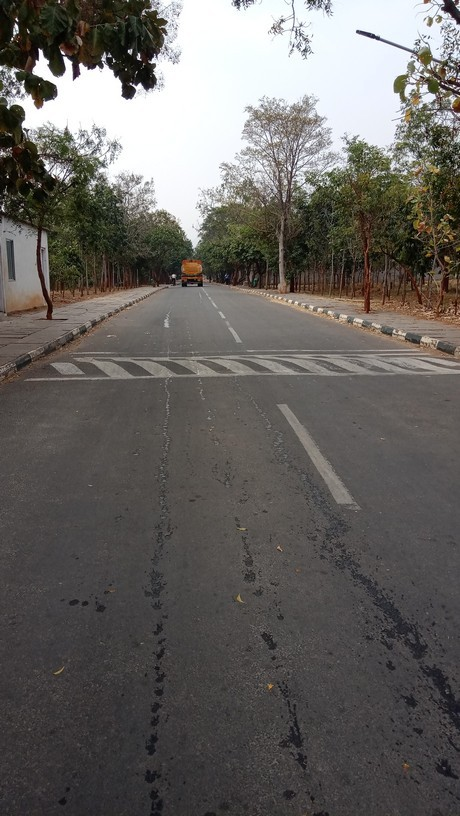bump: (24, 350, 460, 383)
